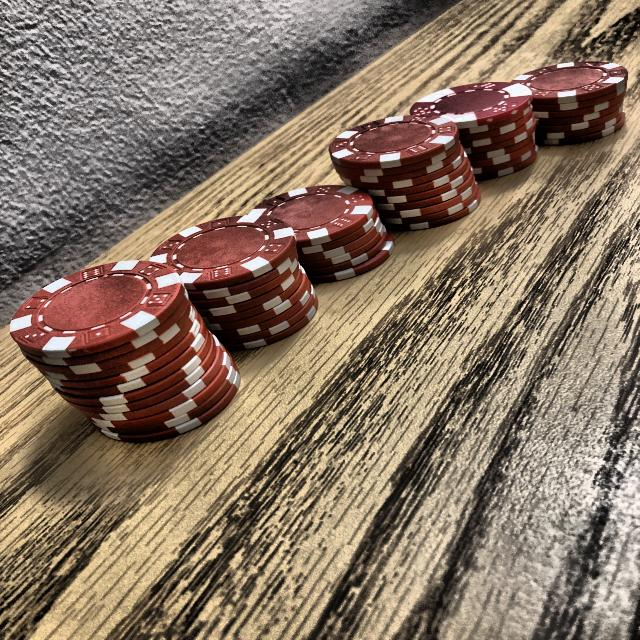Chip: (28, 232, 245, 469), (147, 200, 326, 382), (324, 99, 486, 250), (254, 169, 401, 304), (408, 69, 550, 197), (492, 47, 628, 166)
